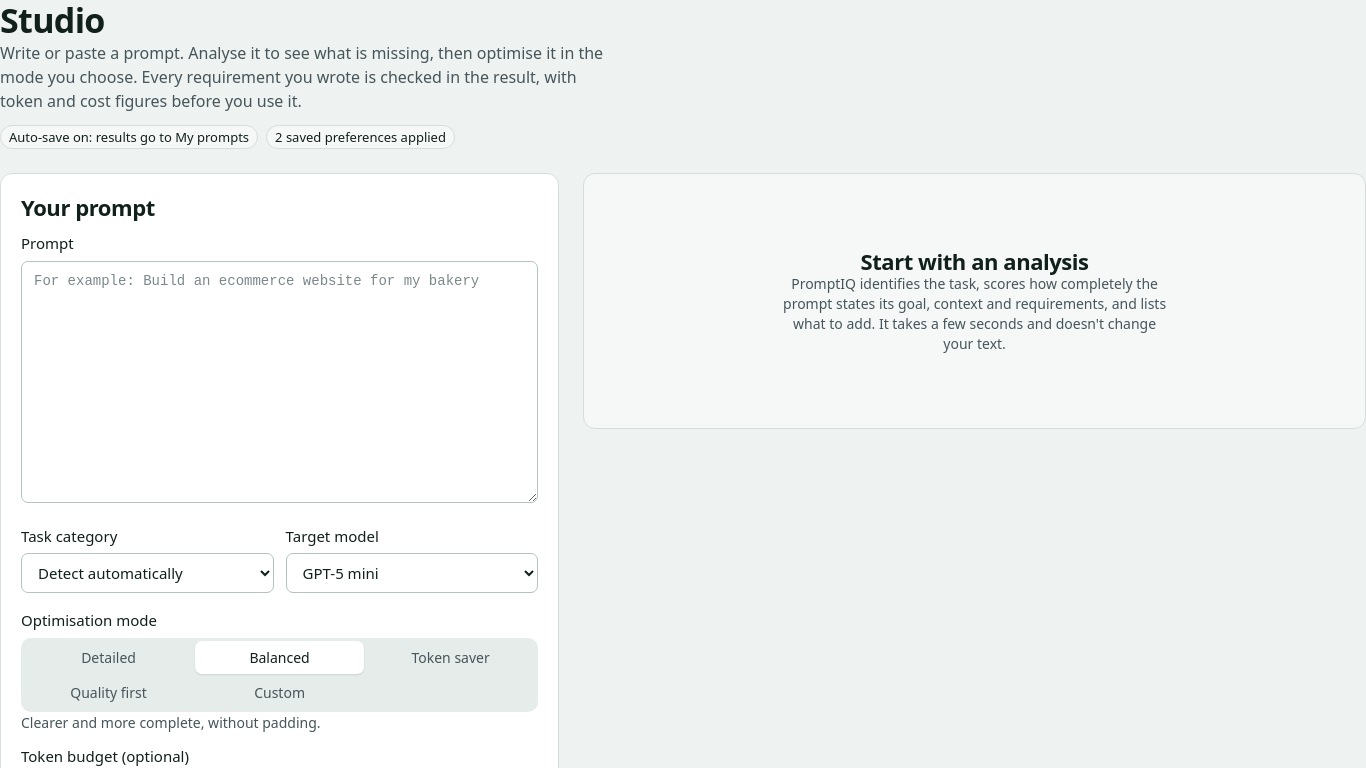
Test case: Studio additions › shows the live token count, auto-save state and applied preferences, and never saves a draft twice
Expected: the link "Auto-save on: results go to My prompts" is shown, [0,125,258,149]
Expected: the link "2 saved preferences applied" is shown, [266,125,455,149]
Type "Build an ecommerce website" into the text box labelled "Prompt" at (280, 382), box [21,261,538,503]
(page scrolled)
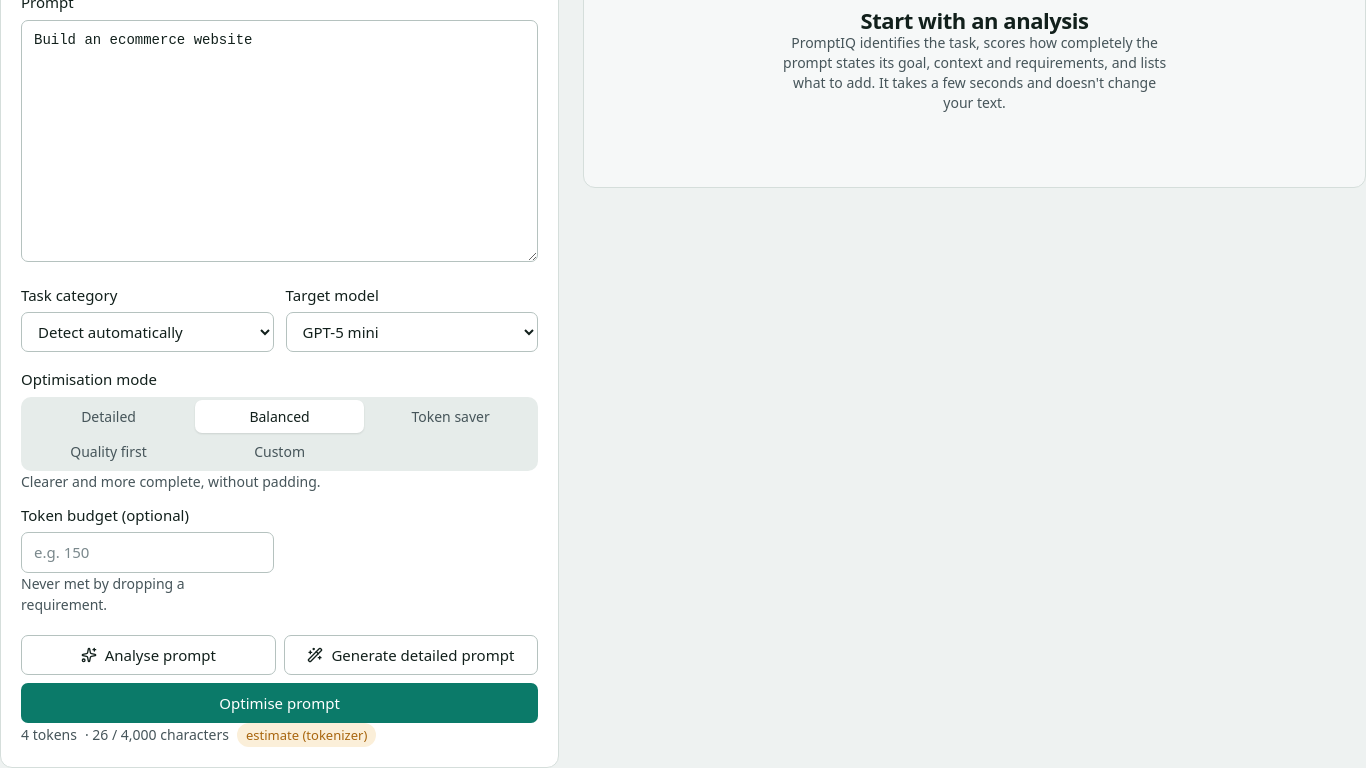
Expected: the text "4 tokens" is shown, [21,725,77,745]
Click the button "Optimise prompt" at (280, 703), box [21,683,538,723]
(page scrolled)
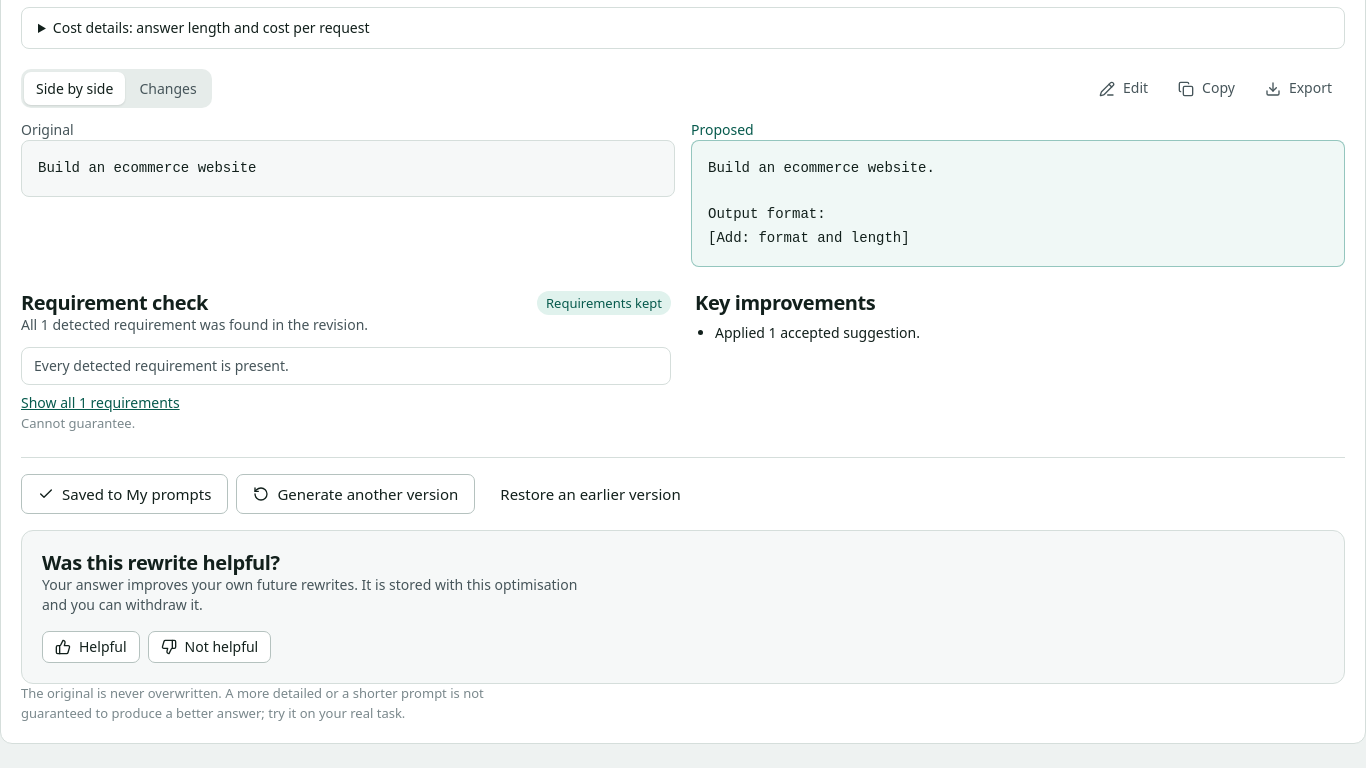
Expected: the button "Helpful" is shown, [42,631,140,663]
Click the button "Generate another version" at (356, 494), box [236,474,475,514]
(page scrolled)
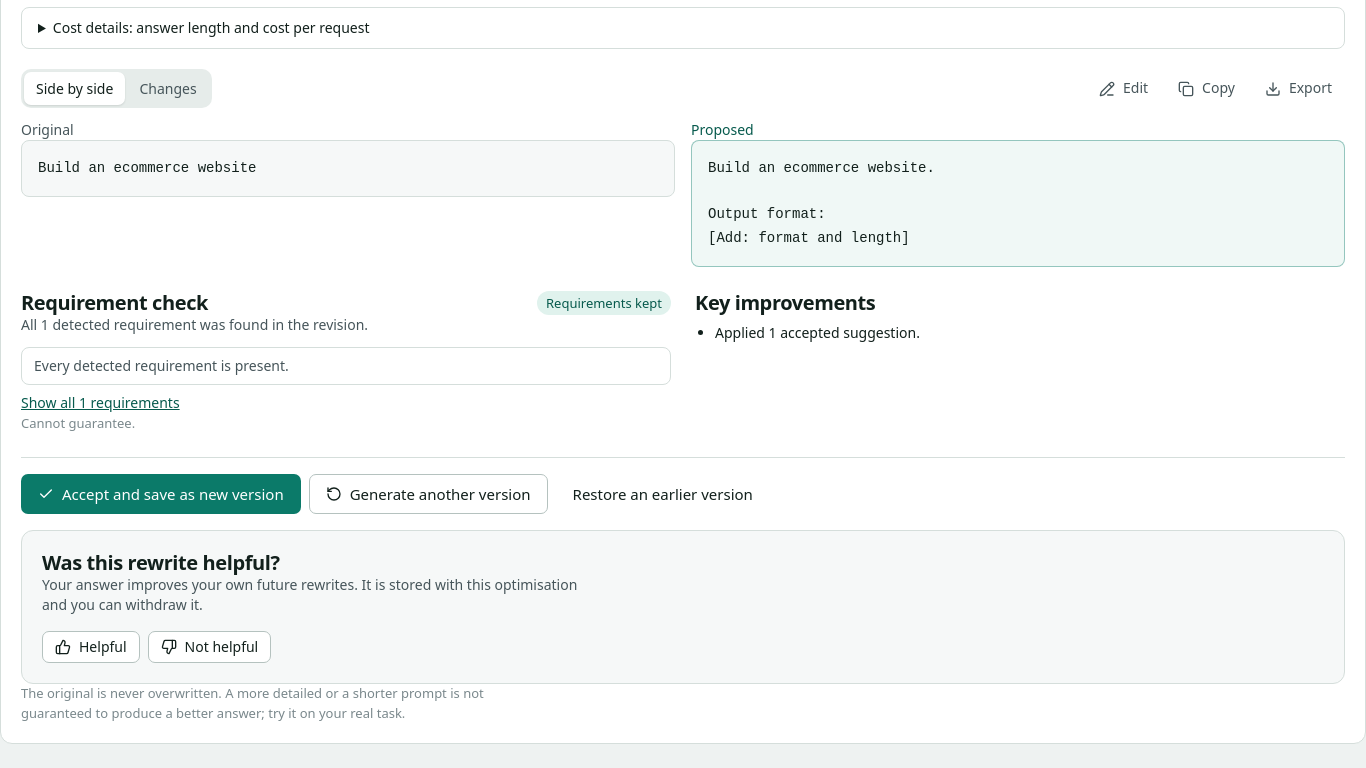
Expected: the button "Accept and save as new version" is shown, [21,474,301,514]
